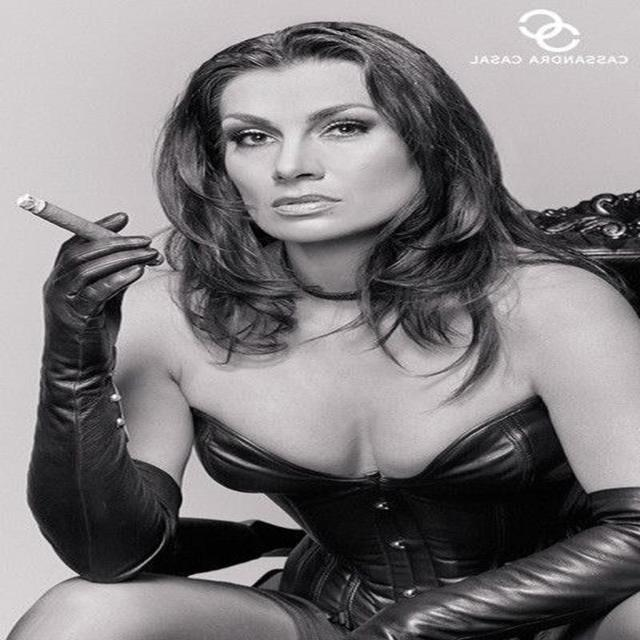smoking: (0, 18, 498, 260)
